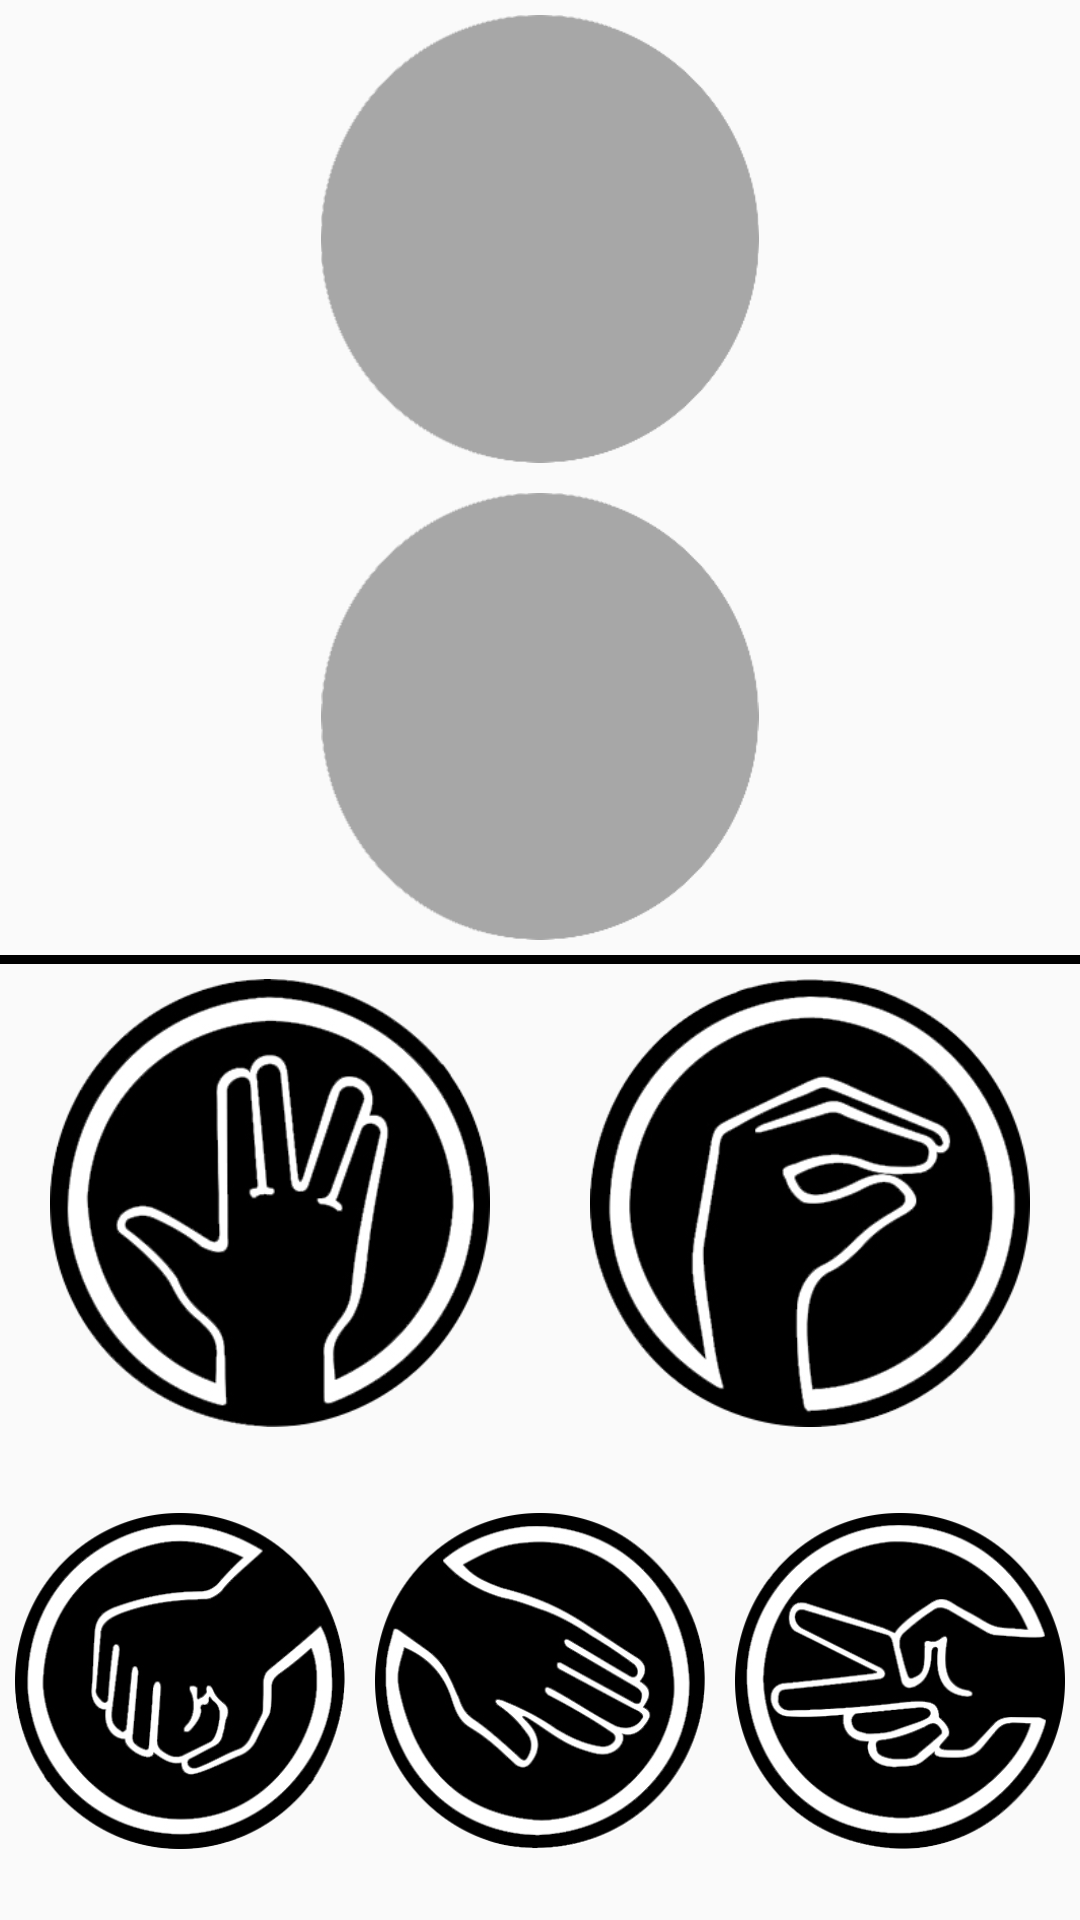

Icon bounding boxes for this 1080×1920 phone screenshot, format region(x1, y1, x2, y2):
paper: region(375, 1513, 705, 1848)
rock: region(15, 1513, 345, 1849)
scissors: region(735, 1513, 1065, 1849)
